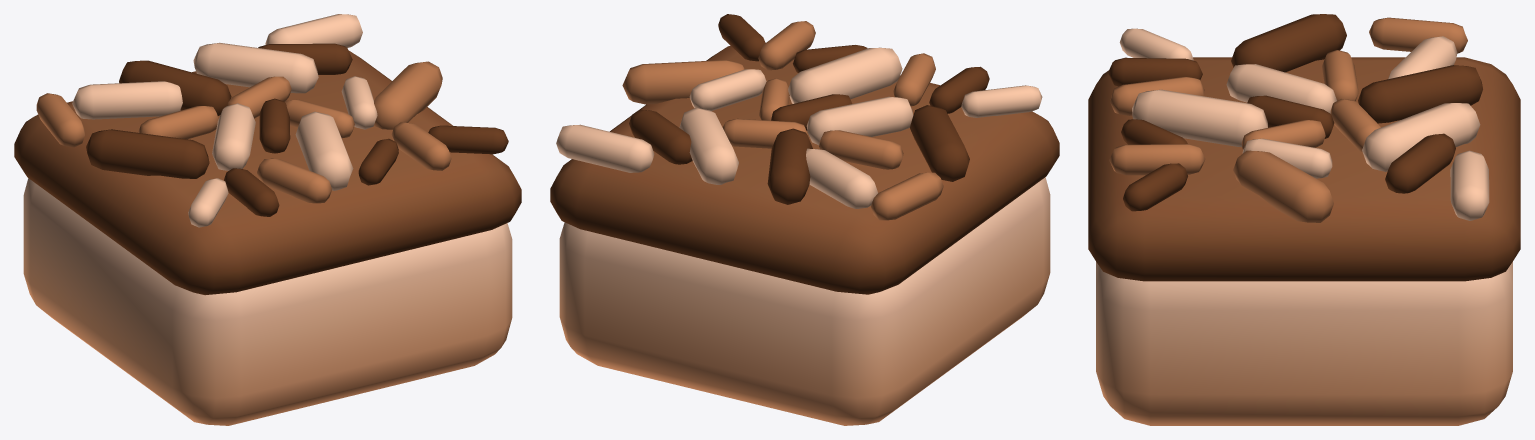
The model's file is candy_choco_27.fbx.
The picture shows the model from 3 angles, left to right: view 1: azimuth 30°, elevation 25°; view 2: azimuth 150°, elevation 25°; view 3: azimuth 270°, elevation 25°; orthographic projection. The views are drawn at different scales.
Visible parts, largest first — view 1: c_c_27; view 2: c_c_27; view 3: c_c_27.
Boxes of the visible parts, x1=… form: c_c_27: x1=14, y1=14, x2=521, y2=425; c_c_27: x1=550, y1=14, x2=1059, y2=425; c_c_27: x1=1088, y1=14, x2=1520, y2=425.
Size of the model in its own units: 116 by 76.94 by 115.
